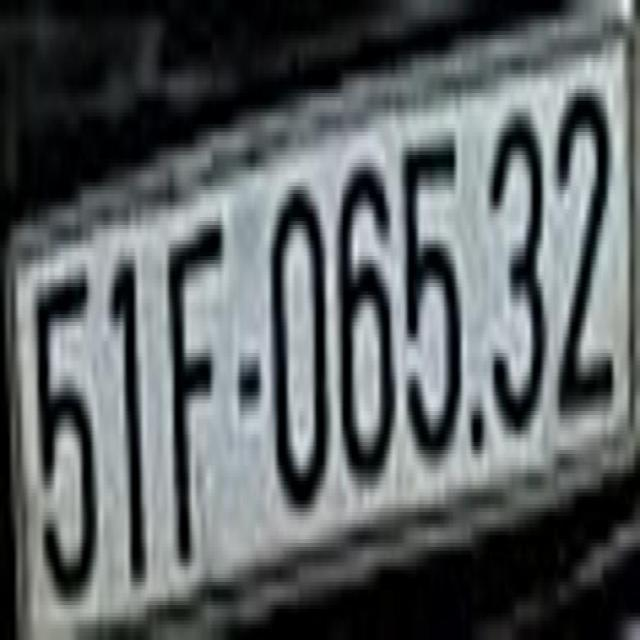0: (269, 182, 329, 520)
1: (109, 248, 148, 582)
2: (557, 89, 616, 419)
3: (488, 105, 545, 442)
5: (401, 124, 464, 462), (35, 272, 95, 598)
6: (338, 163, 396, 489)
F: (163, 221, 226, 555)
